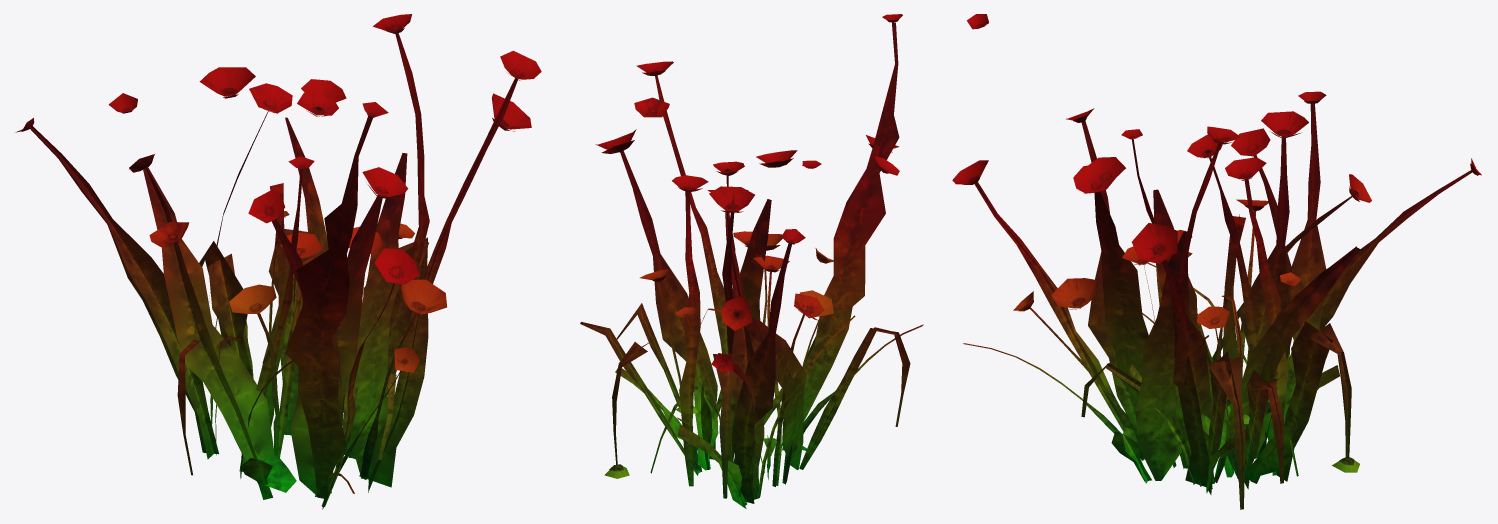
The model's file is White Everlasting_LOD1_Var1_ucvobbbia.glb.
3 views of the same model, side by side, from view 1: azimuth 30°, elevation 25°; view 2: azimuth 150°, elevation 25°; view 3: azimuth 270°, elevation 25° (orthographic). The views are drawn at different scales.
Parts seen in each view (by area): view 1: _34ad_Var1_LOD1; view 2: _34ad_Var1_LOD1; view 3: _34ad_Var1_LOD1.
Part boxes in pixels (x1,y1,x2,y2): _34ad_Var1_LOD1: [15, 14, 541, 509]; _34ad_Var1_LOD1: [580, 14, 923, 508]; _34ad_Var1_LOD1: [952, 14, 1481, 509].
Bounding box in the file's own units: 0.5585 × 0.6969 × 0.7787.
1 material, 1 textured.
